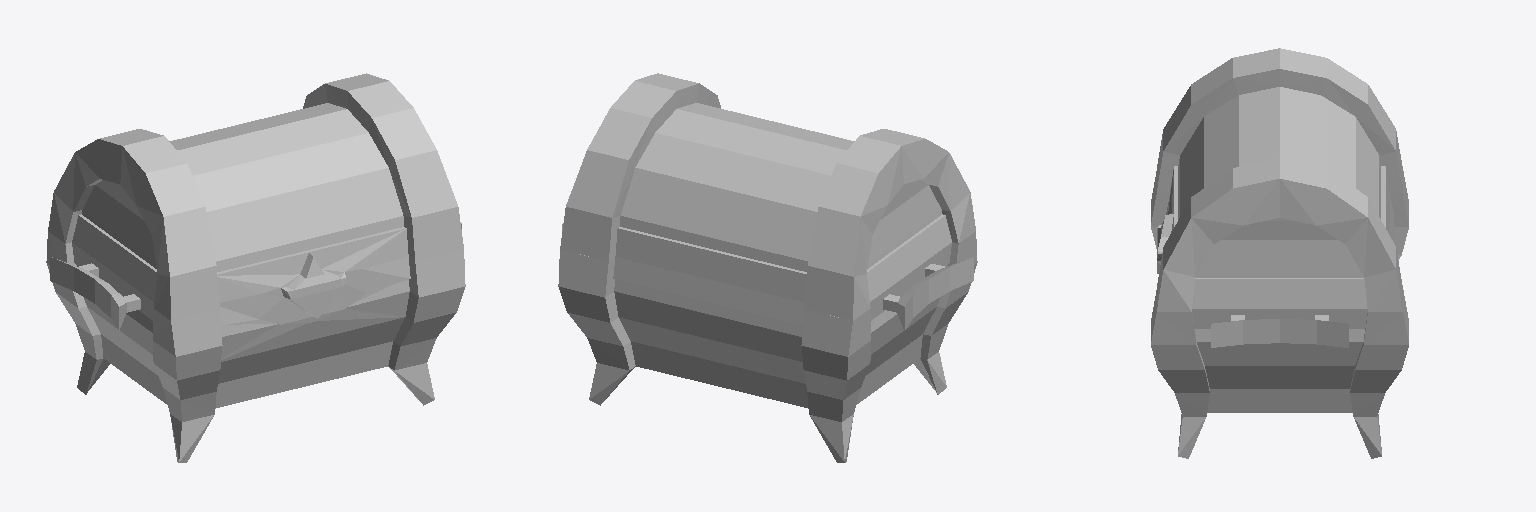
Rendered from chest.obj.
The picture shows the model from 3 angles: view 1: azimuth 30°, elevation 25°; view 2: azimuth 150°, elevation 25°; view 3: azimuth 270°, elevation 25°; orthographic projection.
Visible parts, largest first — view 1: n0b0, n1b1; view 2: n0b0, n1b1; view 3: n0b0, n1b1.
Part boxes in pixels (x1,y1,x2,y2): n0b0: (48, 73, 463, 320); n1b1: (46, 223, 465, 462); n0b0: (560, 73, 975, 320); n1b1: (558, 224, 977, 462); n0b0: (1157, 48, 1402, 311); n1b1: (1151, 171, 1408, 458).
Bounding box in the file's own units: 1.36 × 1.08 × 0.8883.